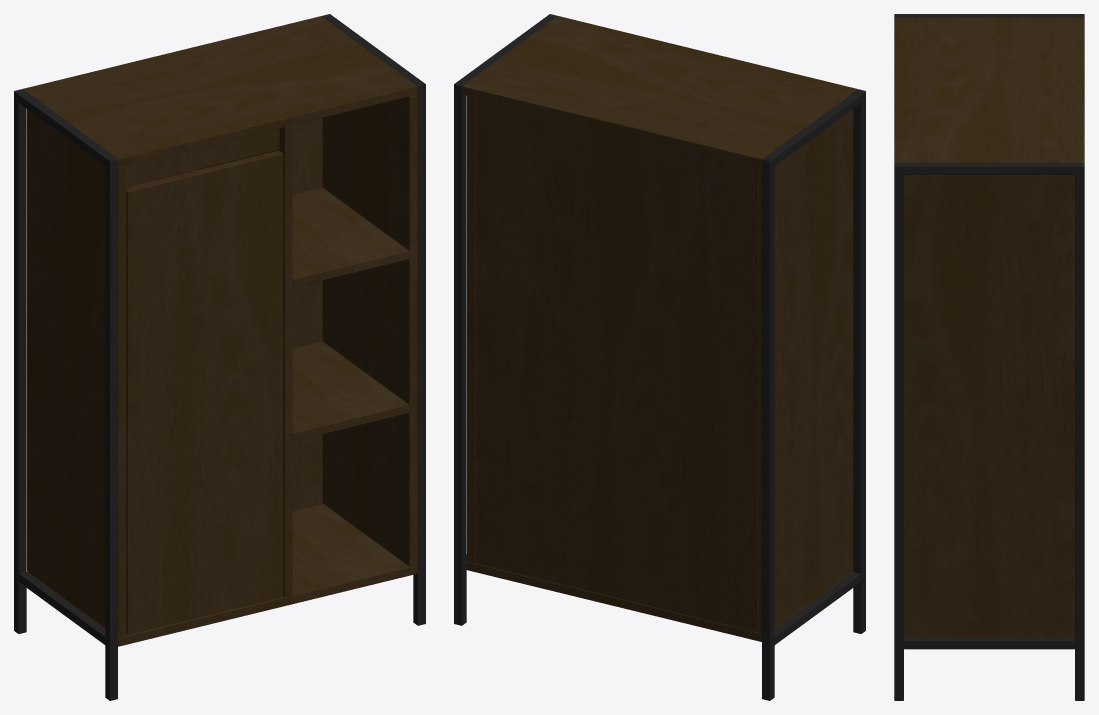
File: placard.glb
3 views of the same model, side by side, from view 1: azimuth 30°, elevation 25°; view 2: azimuth 150°, elevation 25°; view 3: azimuth 270°, elevation 25° (orthographic).
Visible parts, largest first — view 1: Sideboard White; view 2: Sideboard White; view 3: Sideboard White.
Part boxes in pixels (left/top/right/bottom): Sideboard White: left=14, top=14, right=425, bottom=700; Sideboard White: left=454, top=14, right=865, bottom=700; Sideboard White: left=894, top=14, right=1084, bottom=700.
Size of the model in its own units: 0.57 by 0.93 by 0.3.
2 materials, 1 textured.
